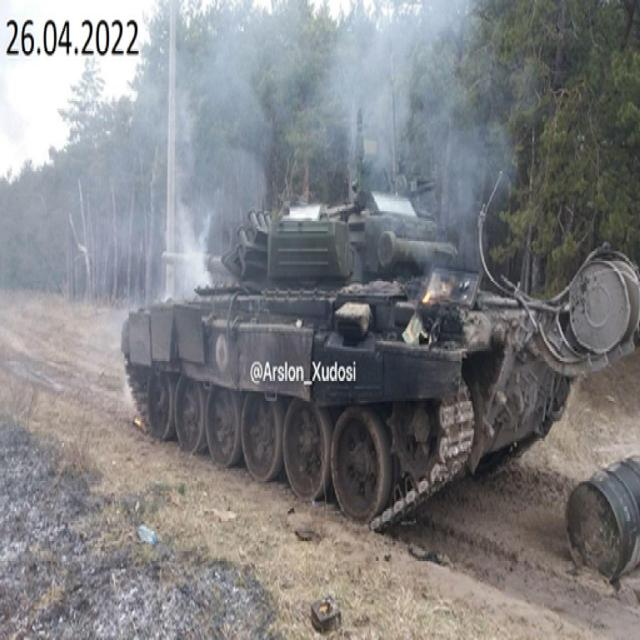TANK: (122, 182, 634, 534)
